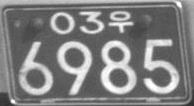0: (49, 11, 76, 35)
3: (78, 11, 105, 34)
5: (142, 37, 180, 94)
6: (17, 40, 54, 96)
8: (99, 39, 138, 95)
9: (55, 39, 93, 95)
우: (108, 10, 134, 33)
